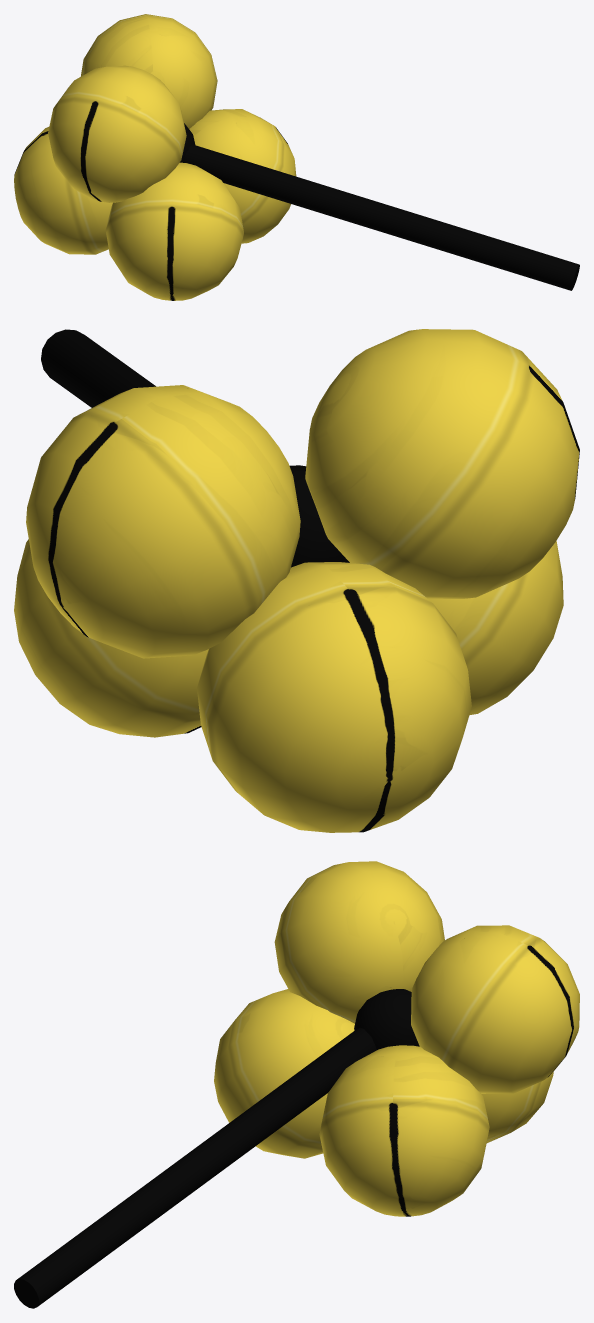
Rendered from japanese bell.fbx.
The picture shows the model from 3 angles, top to bottom: view 1: azimuth 30°, elevation 25°; view 2: azimuth 150°, elevation 25°; view 3: azimuth 270°, elevation 25°; orthographic projection. The views are drawn at different scales.
Parts seen in each view (by area): view 1: Sphere001; view 2: Sphere001; view 3: Sphere001.
Boxes of the visible parts, <box> form: Sphere001: <box>14,14,579,300</box>; Sphere001: <box>14,329,579,832</box>; Sphere001: <box>14,861,579,1308</box>.
Size of the model in its own units: 32.58 by 16.89 by 32.94.
